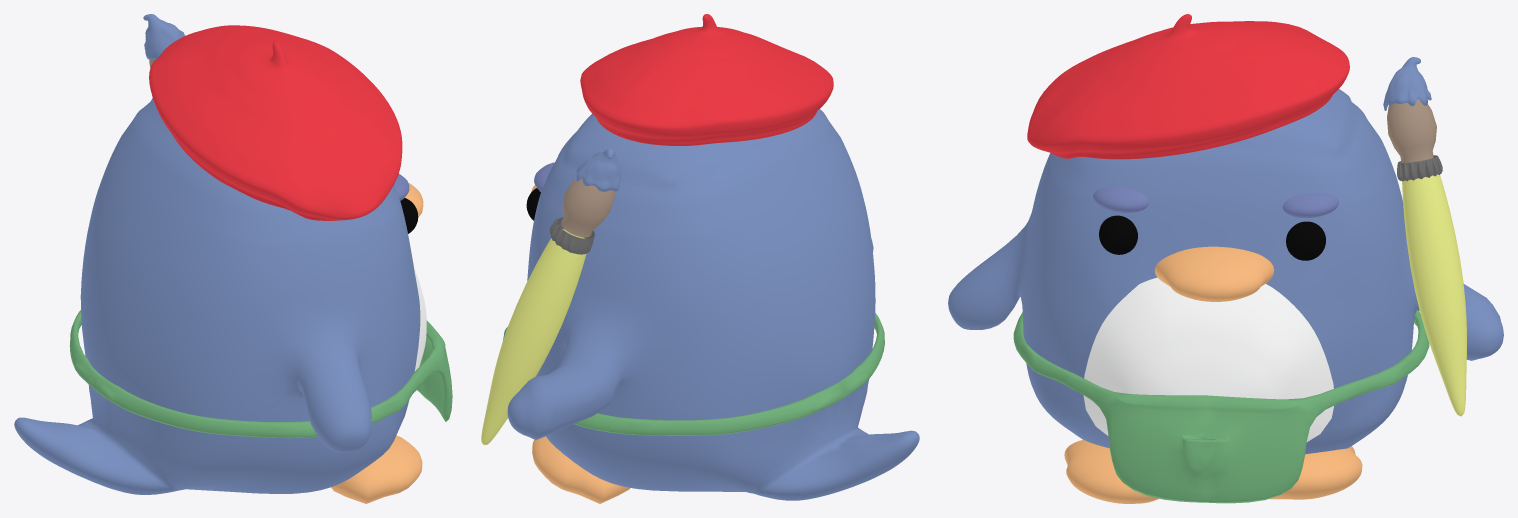
The model's file is penguin.glb.
3 views of the same model, side by side, from view 1: azimuth 30°, elevation 25°; view 2: azimuth 150°, elevation 25°; view 3: azimuth 270°, elevation 25° (orthographic). The views are drawn at different scales.
Visible parts, largest first — view 1: Sphere_6, Torus_14, Sphere.003_15, Cylinder.001_10, Cylinder.008_3; view 2: Sphere_6, Torus_14, Cylinder.005_0, Sphere.003_15, Cylinder.002_11, Cylinder.007_2, Cylinder.008_3, Cylinder.006_1; view 3: Sphere_6, Torus_14, Sphere.003_15, Cylinder.005_0, Cylinder_9, Cylinder.001_10, Cylinder.002_11, Cylinder.007_2, Cylinder.008_3, Sphere.001_7, Sphere.002_8, Cylinder.003_12 (+2 smaller).
Part boxes in pixels (x1,y1,x2,y2): Sphere_6: [14, 98, 426, 494]; Torus_14: [149, 25, 402, 220]; Sphere.003_15: [69, 310, 452, 438]; Cylinder.001_10: [331, 435, 422, 503]; Cylinder.008_3: [143, 14, 185, 60]; Sphere_6: [507, 109, 919, 500]; Torus_14: [580, 14, 833, 145]; Cylinder.005_0: [481, 229, 586, 445]; Sphere.003_15: [503, 312, 884, 435]; Cylinder.002_11: [532, 436, 630, 503]; Cylinder.007_2: [561, 178, 614, 237]; Cylinder.008_3: [575, 148, 621, 191]; Cylinder.006_1: [549, 217, 594, 254]; Sphere_6: [948, 89, 1503, 454]; Torus_14: [1027, 14, 1349, 159]; Sphere.003_15: [1013, 310, 1429, 503]; Cylinder.005_0: [1402, 174, 1466, 416]; Cylinder_9: [1154, 246, 1274, 301]; Cylinder.001_10: [1064, 439, 1158, 503]; Cylinder.002_11: [1269, 446, 1362, 499]; Cylinder.007_2: [1387, 99, 1436, 162]; Cylinder.008_3: [1383, 57, 1431, 110]; Sphere.001_7: [1286, 221, 1325, 260]; Sphere.002_8: [1099, 215, 1137, 254]; Cylinder.003_12: [1093, 186, 1148, 212].
Bounding box in the file's own units: 3.47 × 3.66 × 4.07.
Materials: 10 (1 with a texture image).
